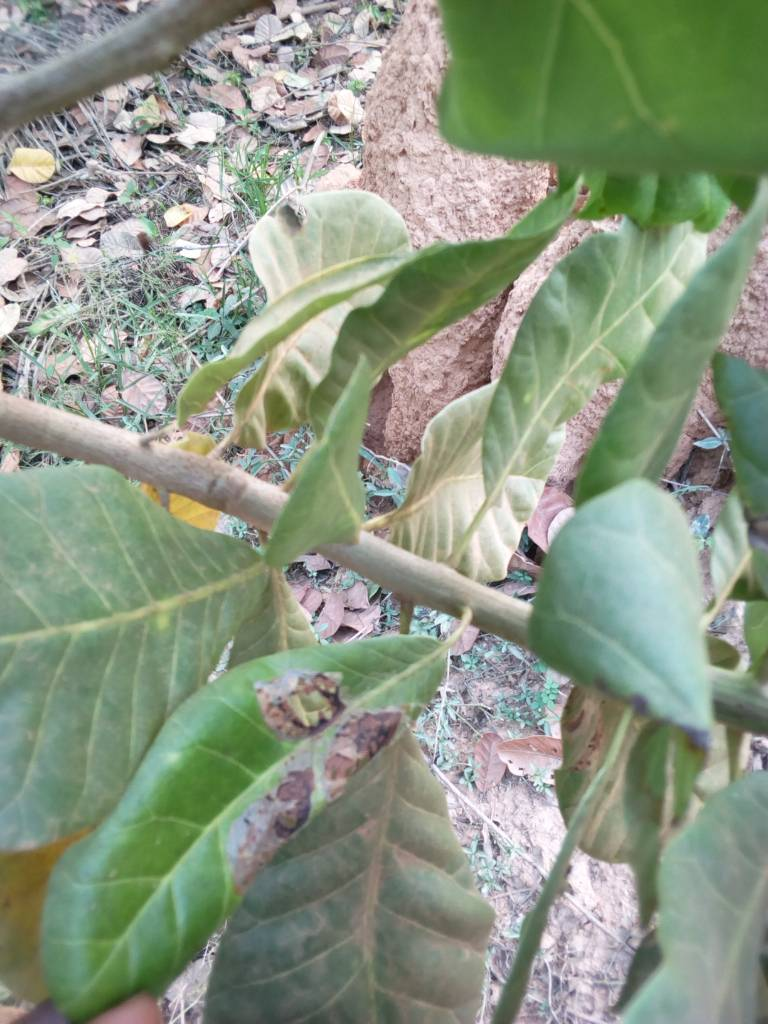Bactériose: (213, 642, 400, 864)
